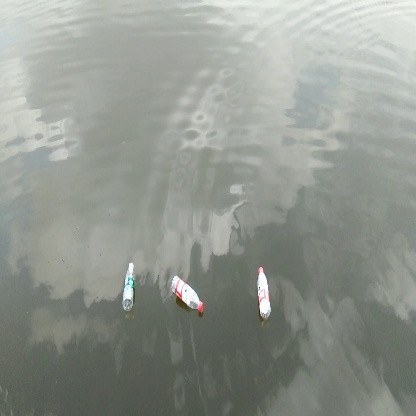bottle: (168, 272, 208, 315), (253, 265, 274, 320), (121, 261, 140, 312)
